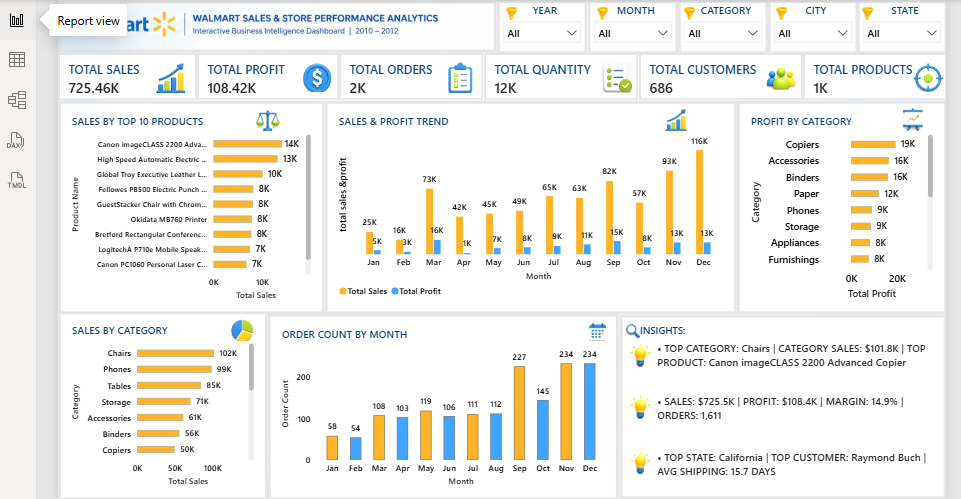

The dashboard page shown, as its layout file describes it:
{"tool":"powerbi","page":{"name":"Page 1","canvas":[1280,720],"ordinal":0},"visuals":[{"type":"shape","box":[807.5,452.5,472.5,267.5],"z":0},{"type":"cardVisual","fields":{"Data":["Walmart_Sales.Total Sales"]},"box":[0,76.2,200,68.8],"z":1000},{"type":"cardVisual","fields":{"Data":["Walmart_Sales.Total Profit"]},"box":[200,76.2,205,68.8],"z":2000},{"type":"cardVisual","fields":{"Data":["Walmart_Sales.Total Quantity"]},"box":[613.8,76.2,222.5,68.8],"z":3000},{"type":"cardVisual","fields":{"Data":["Walmart_Sales.Total Orders"]},"box":[405,76.2,208.8,68.8],"z":4000},{"type":"cardVisual","fields":{"Data":["Walmart_Sales.Total Customers"]},"box":[836.2,76.2,236.2,68.8],"z":5000},{"type":"cardVisual","fields":{"Data":["Walmart_Sales.Total Products"]},"box":[1072.5,76.2,207.5,68.8],"z":6000},{"type":"clusteredColumnChart","title":"SALES & PROFIT TREND","fields":{"Category":["DateTable.Month"],"Y":["Walmart_Sales.Total Sales","Walmart_Sales.Total Profit"]},"box":[384.5,145.4,593.3,306.7],"z":7000},{"type":"clusteredBarChart","title":"SALES BY CATEGORY","fields":{"Y":["Walmart_Sales.Total Sales"],"Category":["Walmart_Sales.Category"]},"box":[0,446.4,302.4,273.6],"z":8000},{"type":"clusteredBarChart","title":"PROFIT BY CATEGORY","fields":{"Category":["Walmart_Sales.Category"],"Y":["Walmart_Sales.Total Profit"]},"box":[977.8,145.4,302.4,306.7],"z":9000},{"type":"clusteredBarChart","title":"SALES BY TOP 10 PRODUCTS","fields":{"Y":["Walmart_Sales.Total Sales"],"Category":["Walmart_Sales.Product Name"]},"box":[0,145.4,384.5,306.7],"z":10000},{"type":"clusteredColumnChart","title":"ORDER COUNT BY MONTH ","fields":{"Y":["DateTable.Order Count"],"Category":["DateTable.Month"]},"box":[302.4,452.2,505.4,267.8],"z":11000},{"type":"slicer","title":"YEAR","fields":{"Values":["DateTable.Year"]},"box":[632.5,0,130,77.5],"z":12000},{"type":"slicer","title":"MONTH","fields":{"Values":["DateTable.Month"]},"box":[762.5,0,130,77.5],"z":13000},{"type":"slicer","title":"CATEGORY","fields":{"Values":["Walmart_Sales.Category"]},"box":[892.5,0,130,77.5],"z":14000},{"type":"slicer","title":"CITY","fields":{"Values":["Walmart_Sales.City"]},"box":[1022.5,0,130,77.5],"z":15000},{"type":"slicer","title":"STATE","fields":{"Values":["Walmart_Sales.State"]},"box":[1150,0,130,77.5],"z":16000},{"type":"cardVisual","fields":{"Data":["DateTable.Live Insight 1"]},"box":[851.2,541.2,428.8,90],"z":17000},{"type":"cardVisual","fields":{"Data":["DateTable.Live Insight 2"]},"box":[851.2,462.5,423.8,96.2],"z":18000},{"type":"cardVisual","fields":{"Data":["DateTable.Live Insight 3"]},"box":[851.2,623.8,417.5,86.2],"z":19000},{"type":"shape","box":[0,0,632.5,76.2],"z":20000},{"type":"image","box":[821.2,493.8,35,35],"z":21000},{"type":"image","box":[821.2,568.8,35,35],"z":22000},{"type":"image","box":[821.2,650,35,33.8],"z":23000},{"type":"image","box":[136.2,88.8,51.2,45],"z":24000},{"type":"image","box":[558.8,88.8,40,45],"z":25000},{"type":"image","box":[762.5,462.5,27.5,28.8],"z":26000},{"type":"image","box":[1020,88.8,43.8,45],"z":27000},{"type":"image","box":[351.2,88.8,42.5,45],"z":28000},{"type":"image","box":[783.8,88.8,43.8,45],"z":29000},{"type":"image","box":[1231.2,88.8,43.8,45],"z":30000},{"type":"image","box":[640,8.8,27.5,20],"z":31000},{"type":"image","box":[770,8.8,27.5,20],"z":32000},{"type":"image","box":[895,8.8,27.5,20],"z":33000},{"type":"image","box":[1028.8,8.8,27.5,20],"z":34000},{"type":"image","box":[1152.5,8.8,27.5,20],"z":35000},{"type":"image","box":[871.2,155.5,37.4,33.1],"z":36000},{"type":"image","box":[1212.5,155.5,37.4,33.1],"z":37000},{"type":"image","box":[246.2,457.9,37.4,33.1],"z":38000},{"type":"image","box":[283.7,155.5,37.4,33.1],"z":39000},{"type":"image","box":[816.2,462.5,22.5,28.8],"z":40000},{"type":"textbox","box":[838.8,466.2,300,25],"z":41000}]}

Visuals, with their boxes on the page's 1280x720 design canvas (x1, y1, x2, y2). These are canvas units, not pixel positions in the 961x499 screenshot, which may show the page scaled, cropped or inside an application window:
shape: {"x1": 808, "y1": 452, "x2": 1280, "y2": 720}
cardVisual - Walmart_Sales.Total Sales: {"x1": 0, "y1": 76, "x2": 200, "y2": 145}
cardVisual - Walmart_Sales.Total Profit: {"x1": 200, "y1": 76, "x2": 405, "y2": 145}
cardVisual - Walmart_Sales.Total Quantity: {"x1": 614, "y1": 76, "x2": 836, "y2": 145}
cardVisual - Walmart_Sales.Total Orders: {"x1": 405, "y1": 76, "x2": 614, "y2": 145}
cardVisual - Walmart_Sales.Total Customers: {"x1": 836, "y1": 76, "x2": 1072, "y2": 145}
cardVisual - Walmart_Sales.Total Products: {"x1": 1072, "y1": 76, "x2": 1280, "y2": 145}
"SALES & PROFIT TREND" clusteredColumnChart: {"x1": 384, "y1": 145, "x2": 978, "y2": 452}
"SALES BY CATEGORY" clusteredBarChart: {"x1": 0, "y1": 446, "x2": 302, "y2": 720}
"PROFIT BY CATEGORY" clusteredBarChart: {"x1": 978, "y1": 145, "x2": 1280, "y2": 452}
"SALES BY TOP 10 PRODUCTS" clusteredBarChart: {"x1": 0, "y1": 145, "x2": 384, "y2": 452}
"ORDER COUNT BY MONTH " clusteredColumnChart: {"x1": 302, "y1": 452, "x2": 808, "y2": 720}
"YEAR" slicer: {"x1": 632, "y1": 0, "x2": 762, "y2": 78}
"MONTH" slicer: {"x1": 762, "y1": 0, "x2": 892, "y2": 78}
"CATEGORY" slicer: {"x1": 892, "y1": 0, "x2": 1022, "y2": 78}
"CITY" slicer: {"x1": 1022, "y1": 0, "x2": 1152, "y2": 78}
"STATE" slicer: {"x1": 1150, "y1": 0, "x2": 1280, "y2": 78}
cardVisual - DateTable.Live Insight 1: {"x1": 851, "y1": 541, "x2": 1280, "y2": 631}
cardVisual - DateTable.Live Insight 2: {"x1": 851, "y1": 462, "x2": 1275, "y2": 559}
cardVisual - DateTable.Live Insight 3: {"x1": 851, "y1": 624, "x2": 1269, "y2": 710}
shape: {"x1": 0, "y1": 0, "x2": 632, "y2": 76}
image: {"x1": 821, "y1": 494, "x2": 856, "y2": 529}
image: {"x1": 821, "y1": 569, "x2": 856, "y2": 604}
image: {"x1": 821, "y1": 650, "x2": 856, "y2": 684}
image: {"x1": 136, "y1": 89, "x2": 187, "y2": 134}
image: {"x1": 559, "y1": 89, "x2": 599, "y2": 134}
image: {"x1": 762, "y1": 462, "x2": 790, "y2": 491}
image: {"x1": 1020, "y1": 89, "x2": 1064, "y2": 134}
image: {"x1": 351, "y1": 89, "x2": 394, "y2": 134}
image: {"x1": 784, "y1": 89, "x2": 828, "y2": 134}
image: {"x1": 1231, "y1": 89, "x2": 1275, "y2": 134}
image: {"x1": 640, "y1": 9, "x2": 668, "y2": 29}
image: {"x1": 770, "y1": 9, "x2": 798, "y2": 29}
image: {"x1": 895, "y1": 9, "x2": 922, "y2": 29}
image: {"x1": 1029, "y1": 9, "x2": 1056, "y2": 29}
image: {"x1": 1152, "y1": 9, "x2": 1180, "y2": 29}
image: {"x1": 871, "y1": 156, "x2": 909, "y2": 189}
image: {"x1": 1212, "y1": 156, "x2": 1250, "y2": 189}
image: {"x1": 246, "y1": 458, "x2": 284, "y2": 491}
image: {"x1": 284, "y1": 156, "x2": 321, "y2": 189}
image: {"x1": 816, "y1": 462, "x2": 839, "y2": 491}
textbox: {"x1": 839, "y1": 466, "x2": 1139, "y2": 491}
